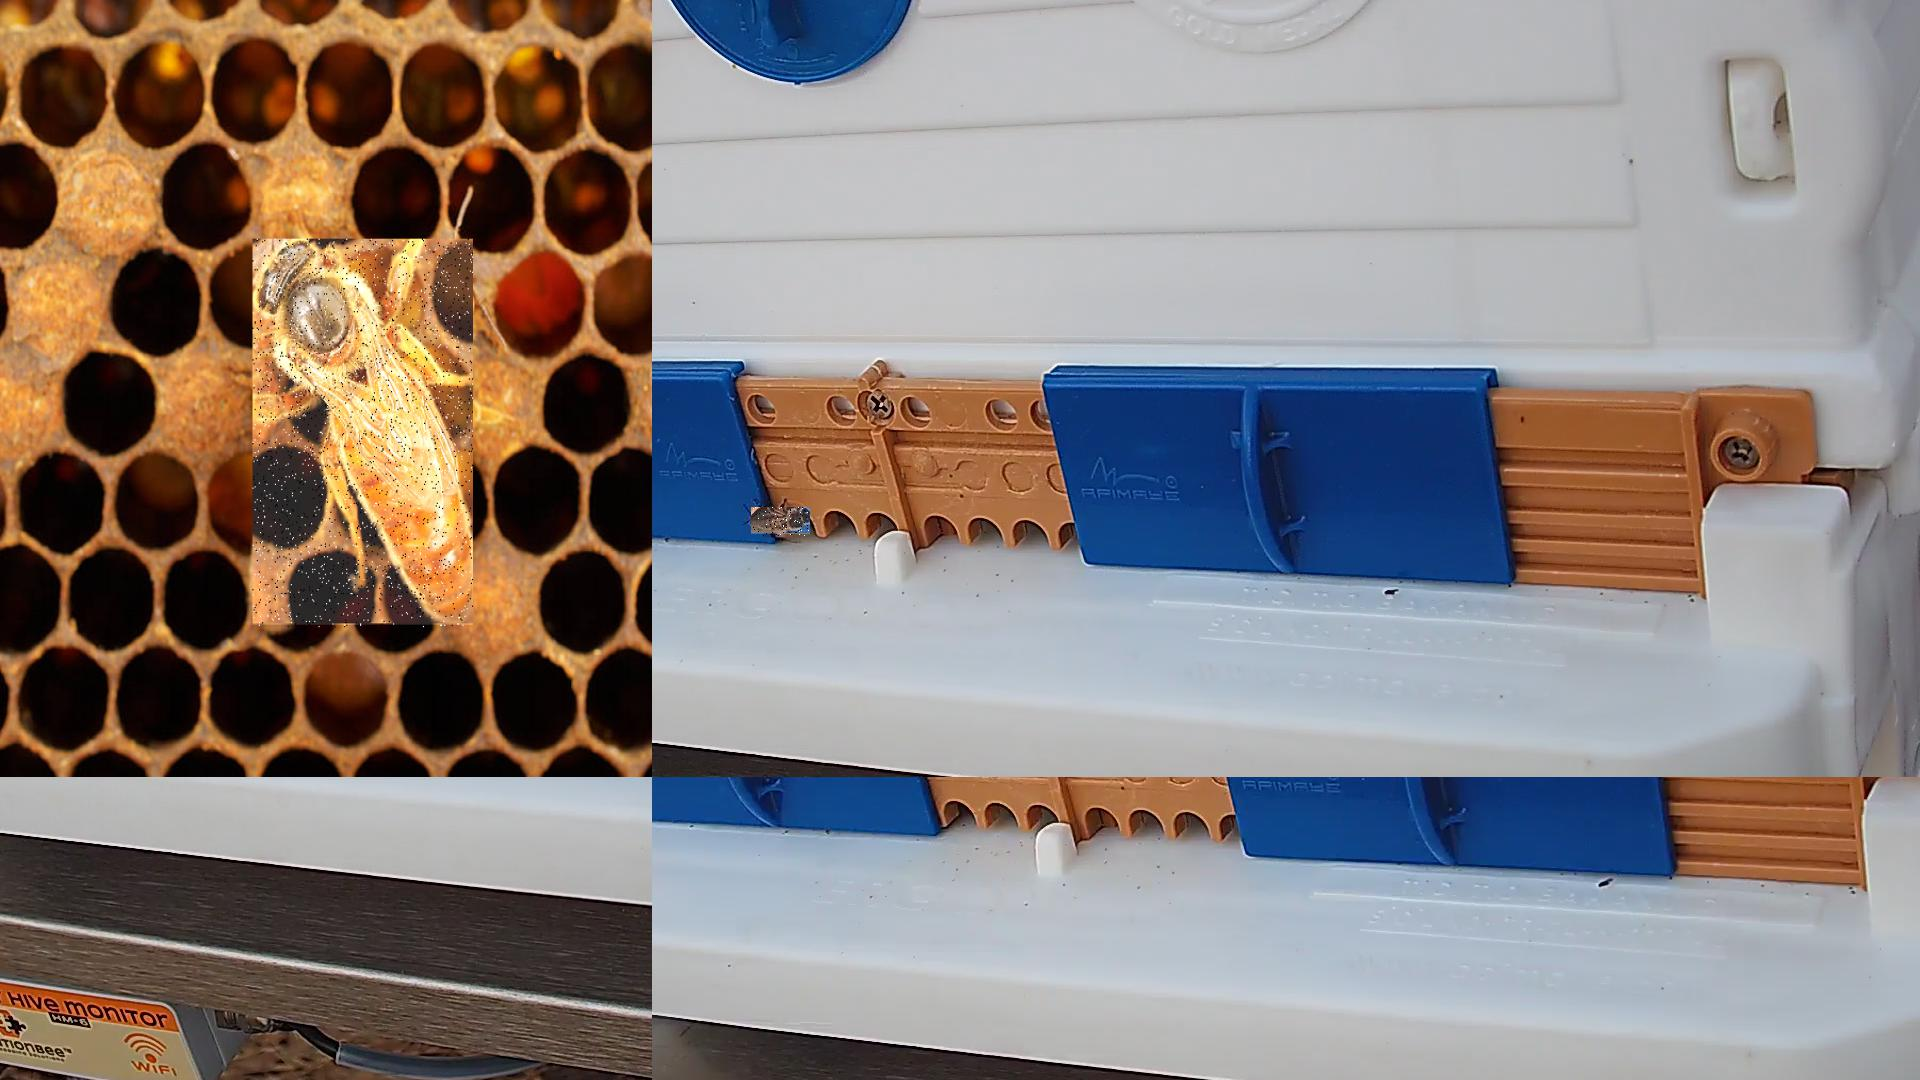bee: (752, 508, 811, 538)
queen: (253, 240, 475, 630)
